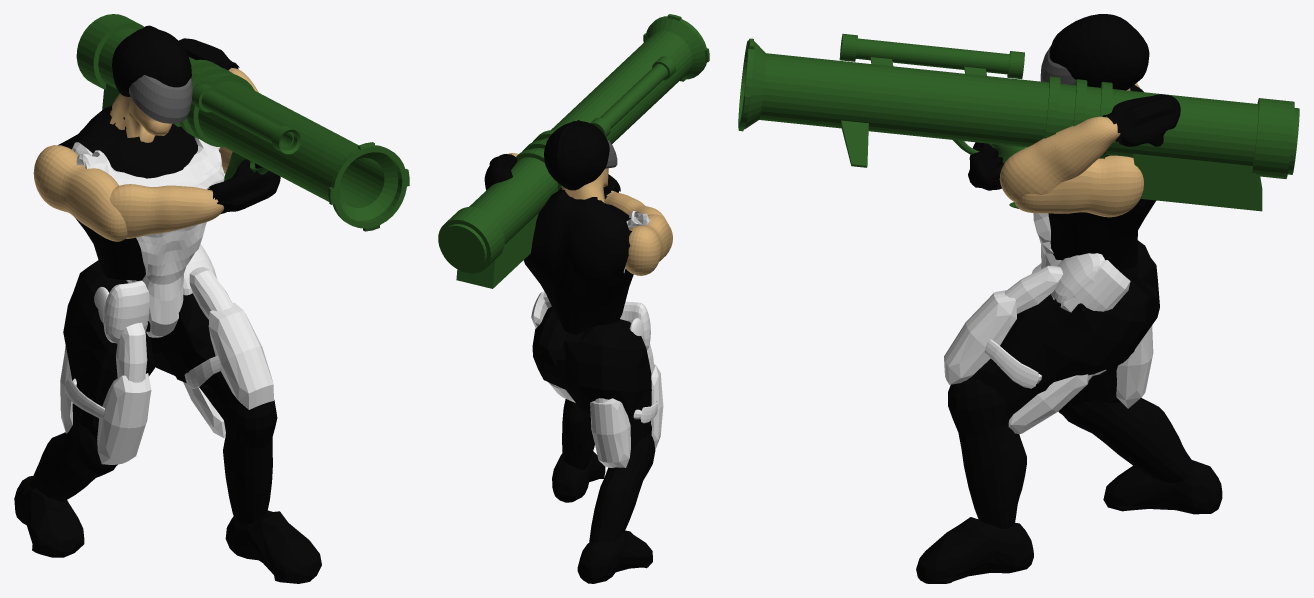
Rendered from berserker.dae.
3 renders of one model, left to right at view 1: azimuth 30°, elevation 25°; view 2: azimuth 150°, elevation 25°; view 3: azimuth 270°, elevation 25°, orthographic. The views are drawn at different scales.
Parts seen in each view (by area): view 1: lanzamisiles, perneras2d, perneras2i, pechera, torso, entrepiernad, piernai, antebrazod, brazod, piei, entrepiernai, piernad (+6 smaller); view 2: lanzamisiles, torso, entrepiernad, perneras2d, piernad, casco, pied, antebrazod, piernai, entrepiernai, piei, manoi (+3 smaller); view 3: lanzamisiles, perneras2i, entrepiernai, piernai, piernad, casco, brazoi, piei, antebrazoi, torso, pied, manoi (+4 smaller).
Boxes of the visible parts, x1,y1,x2,y2 form: lanzamisiles: (76,14,409,231); perneras2d: (60,280,151,464); perneras2i: (183,244,273,437); pechera: (71,137,224,337); torso: (58,105,197,280); entrepiernad: (63,260,154,469); piernai: (222,400,277,525); antebrazod: (33,145,127,241); brazod: (110,184,224,238); piei: (225,510,321,583); entrepiernai: (151,293,242,419); piernad: (29,422,115,501); lanzamisiles: (438,14,709,288); torso: (523,188,633,334); entrepiernad: (556,319,651,451); perneras2d: (590,301,663,467); piernad: (589,434,655,542); casco: (544,120,609,190); pied: (577,530,652,583); antebrazod: (625,214,672,275); piernai: (562,399,594,470); entrepiernai: (532,306,576,389); piei: (552,451,605,502); manoi: (484,154,517,190); lanzamisiles: (738,33,1299,211); perneras2i: (944,253,1130,433); entrepiernai: (967,276,1150,419); piernai: (948,379,1026,528); piernad: (1062,398,1193,482); casco: (1049,14,1149,90); brazoi: (999,116,1120,202); piei: (916,517,1033,583); antebrazoi: (1015,155,1143,217); torso: (1048,85,1156,270); pied: (1103,460,1222,514); manoi: (1102,94,1180,146).
Bounding box in the file's own units: 10.85 × 24.74 × 25.89.
